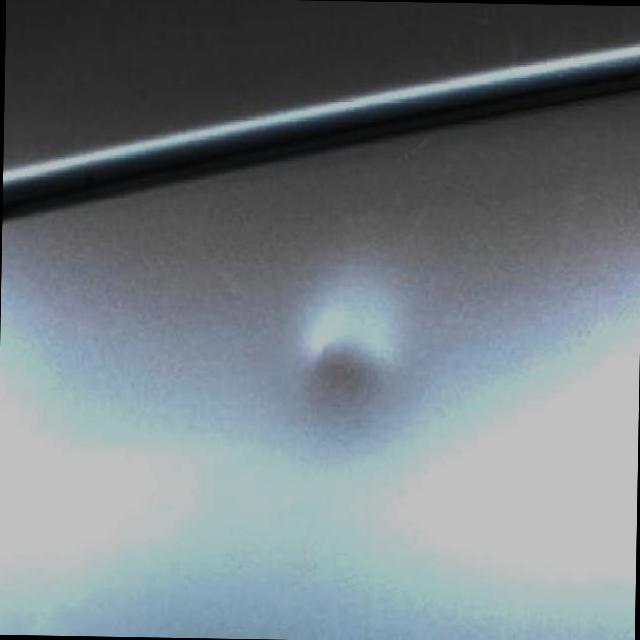dent: (290, 324, 360, 402)
